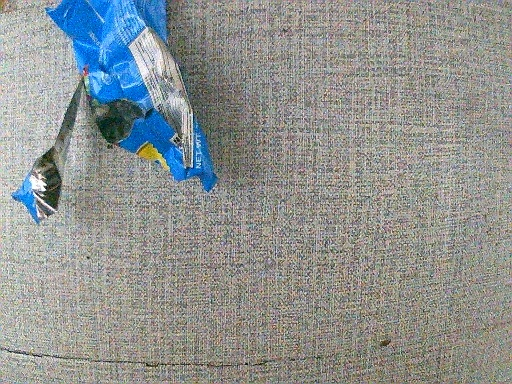plastic: (13, 1, 218, 212)
